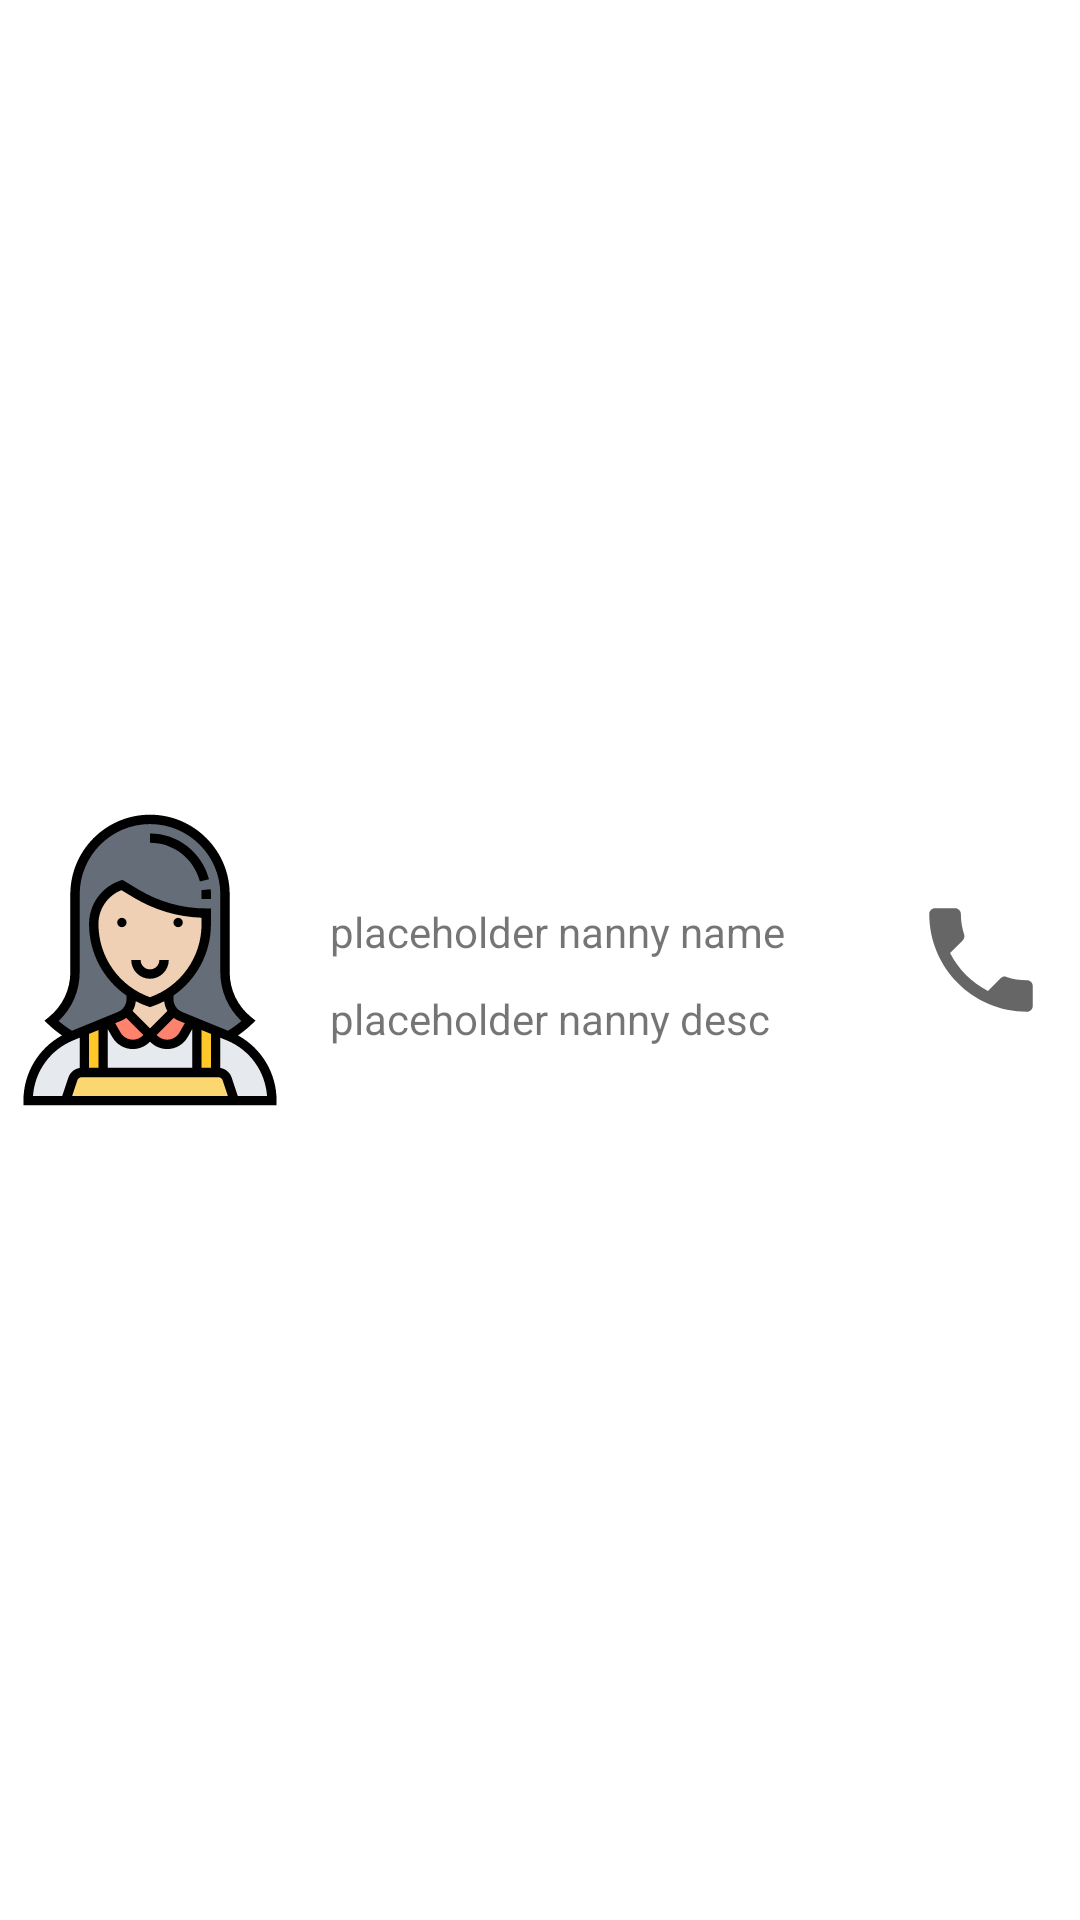

Screen size 1080w x 1920h. Icon name, then its center in pixels as point (x, y):
local phone: point (981, 960)
